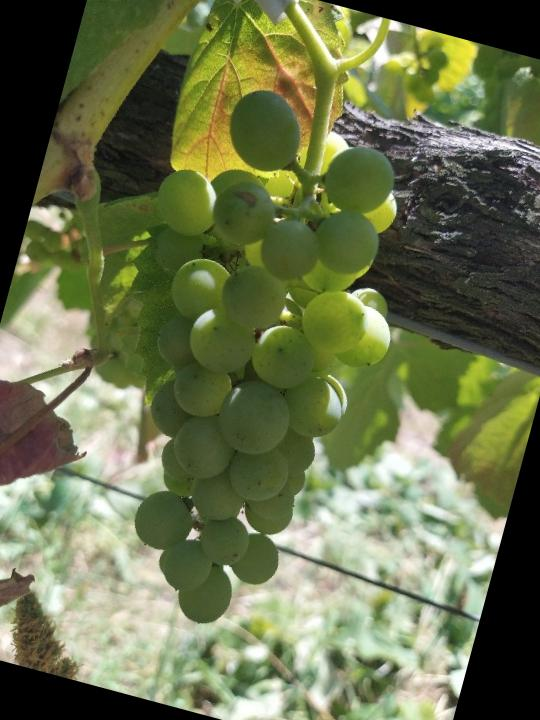grape: (53, 67, 448, 653)
